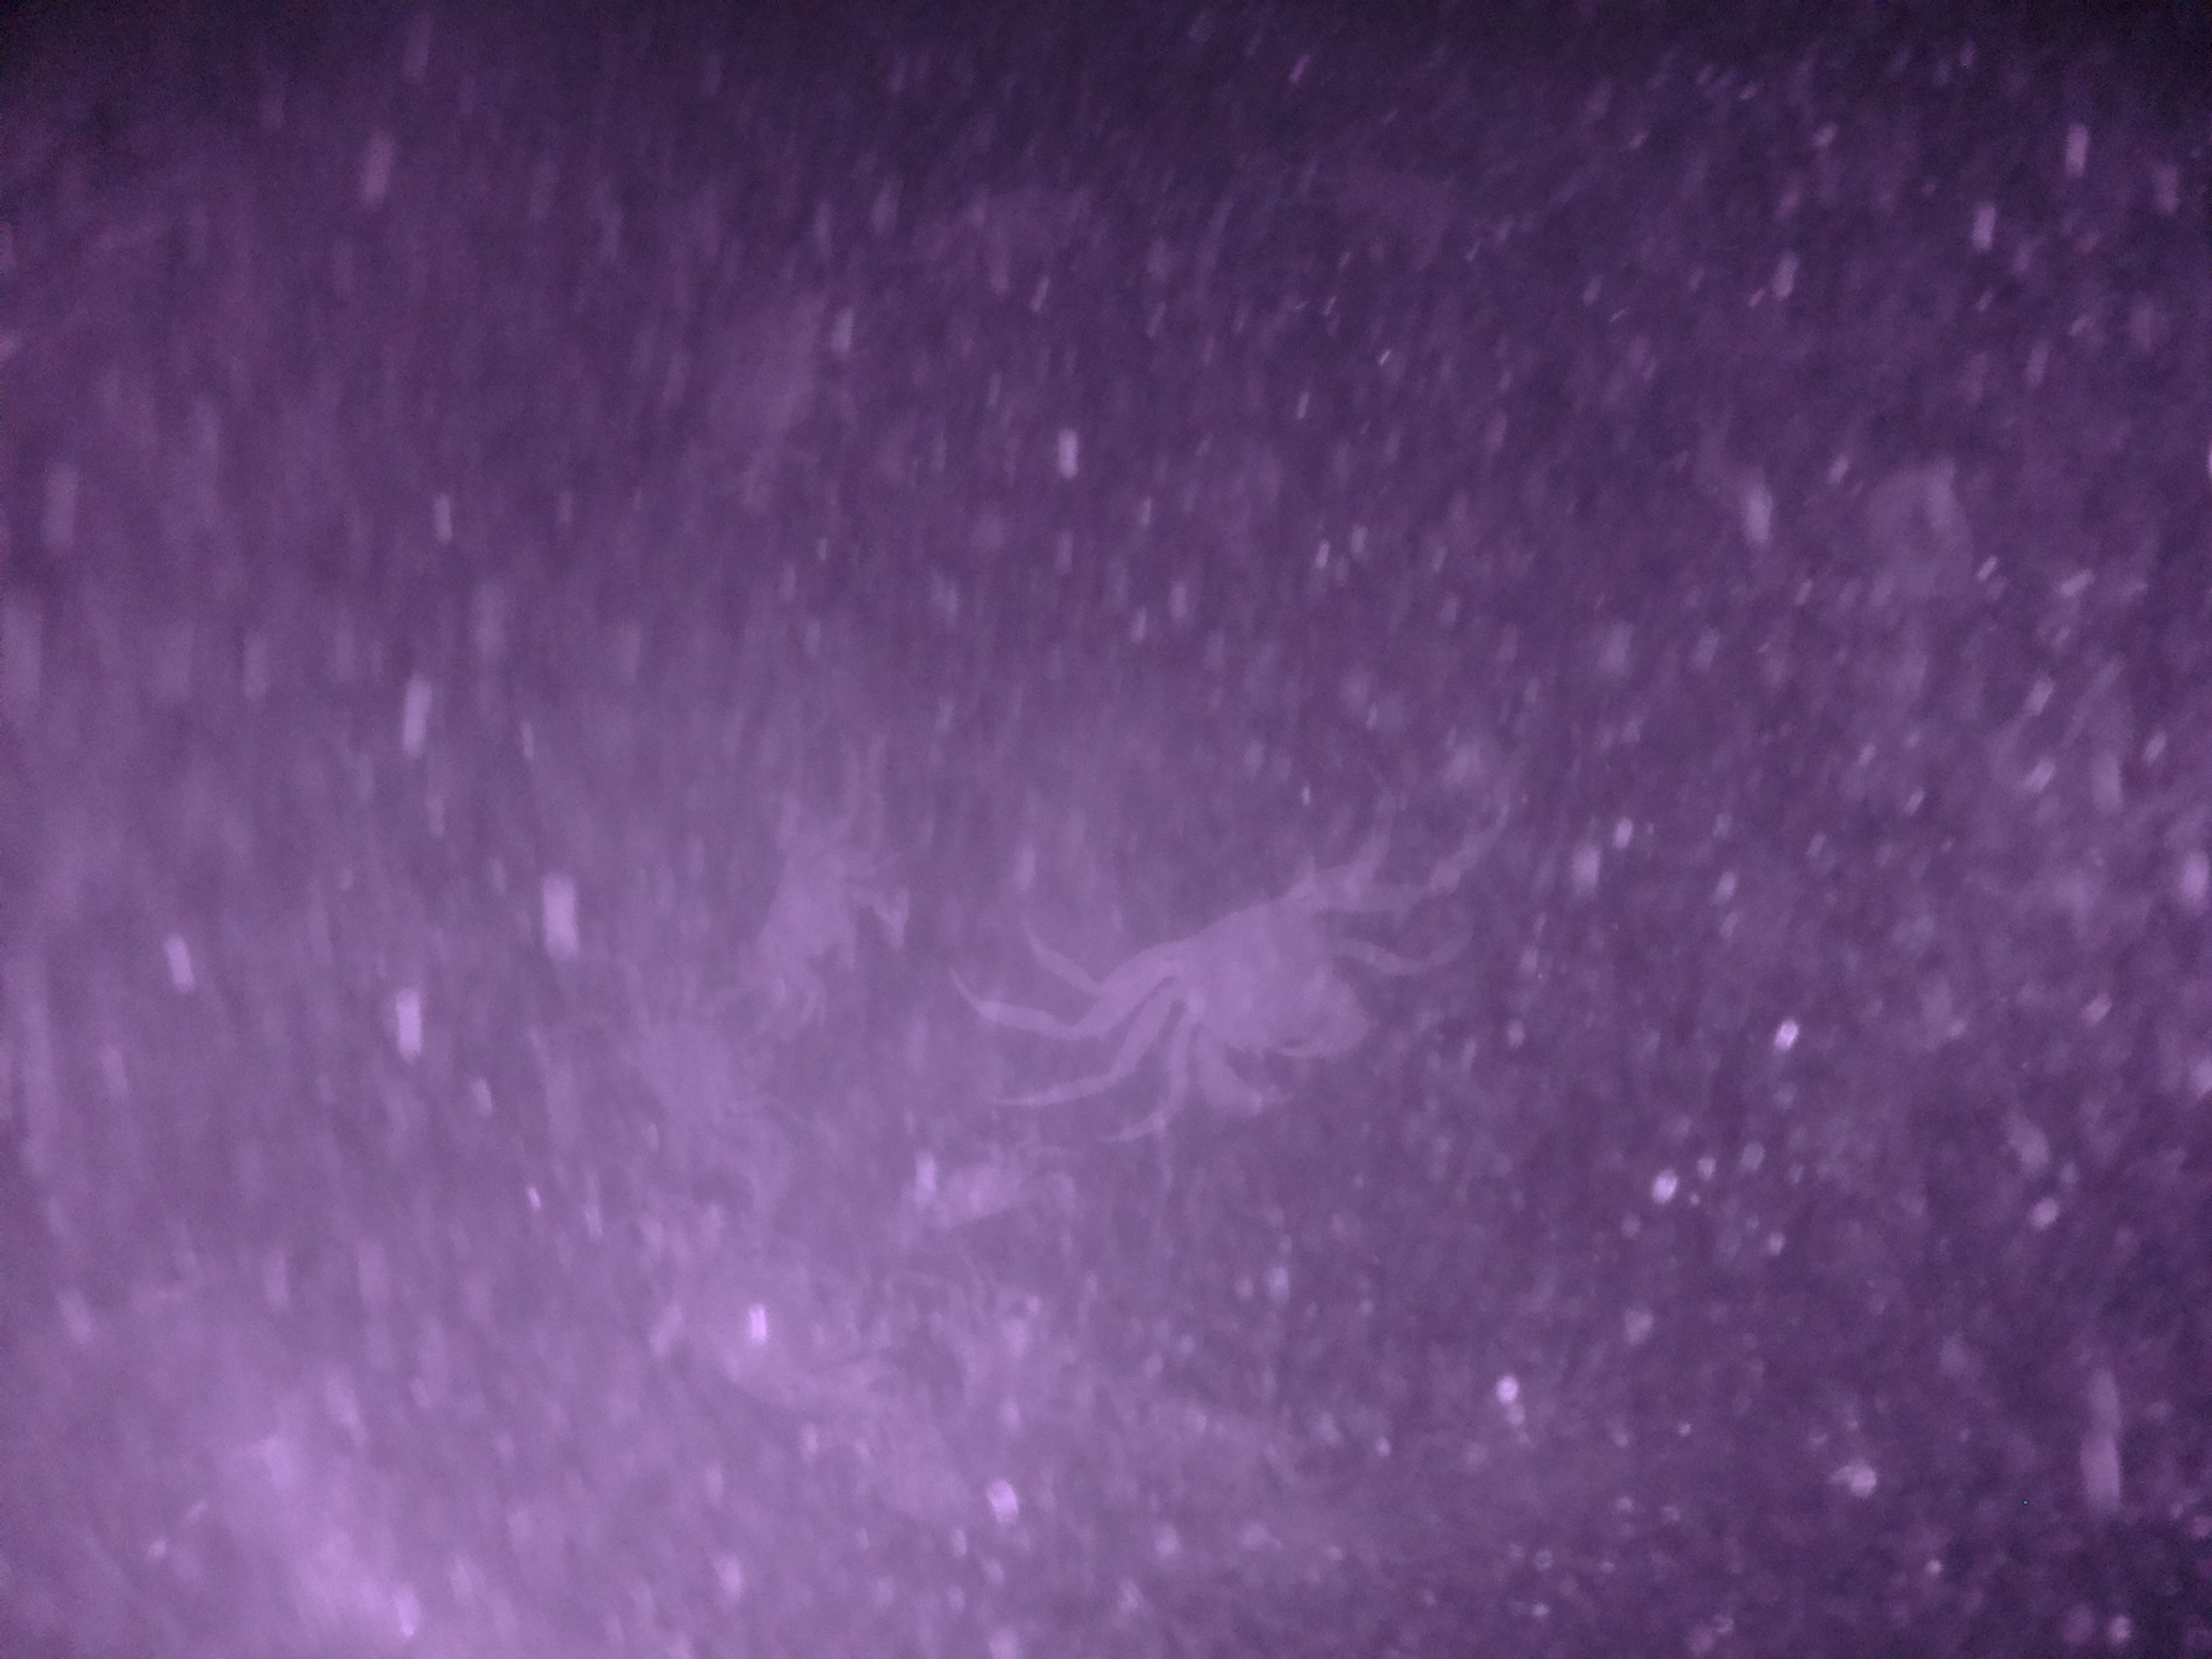Crab: (1109, 854, 1416, 1140)
